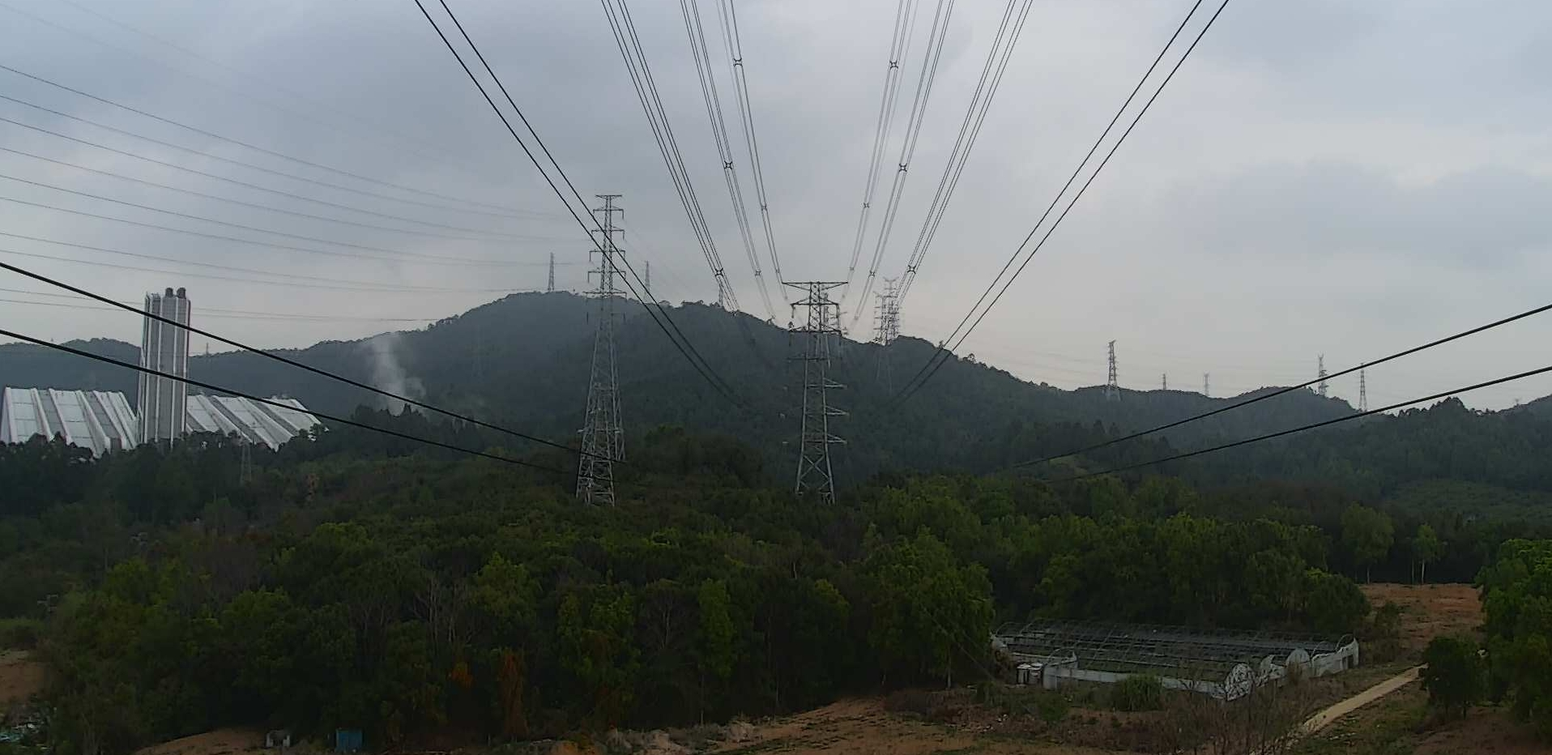烟雾: (352, 330, 485, 433)
